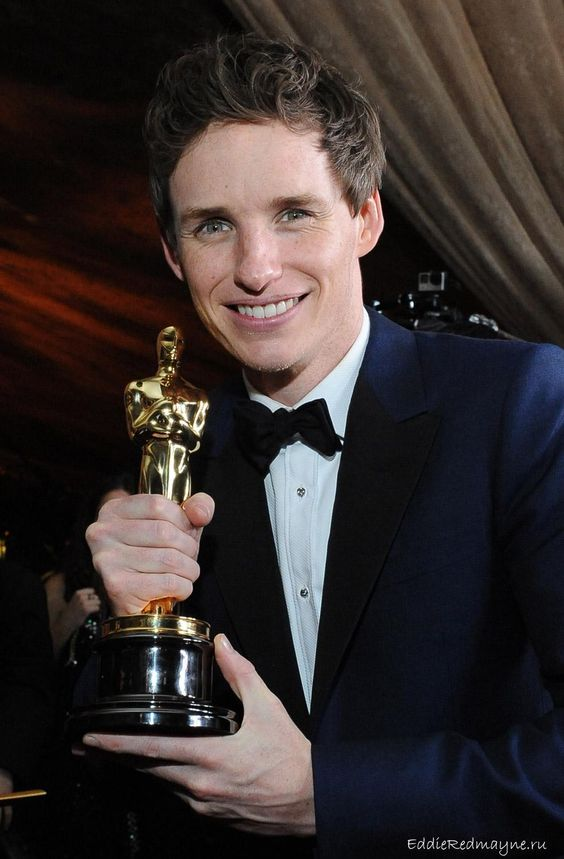hand: (94, 502, 205, 592)
